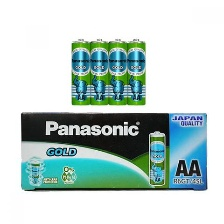battery: (106, 36, 129, 107), (68, 35, 90, 106), (125, 36, 147, 104), (89, 38, 111, 106)
book: (15, 109, 211, 196)
